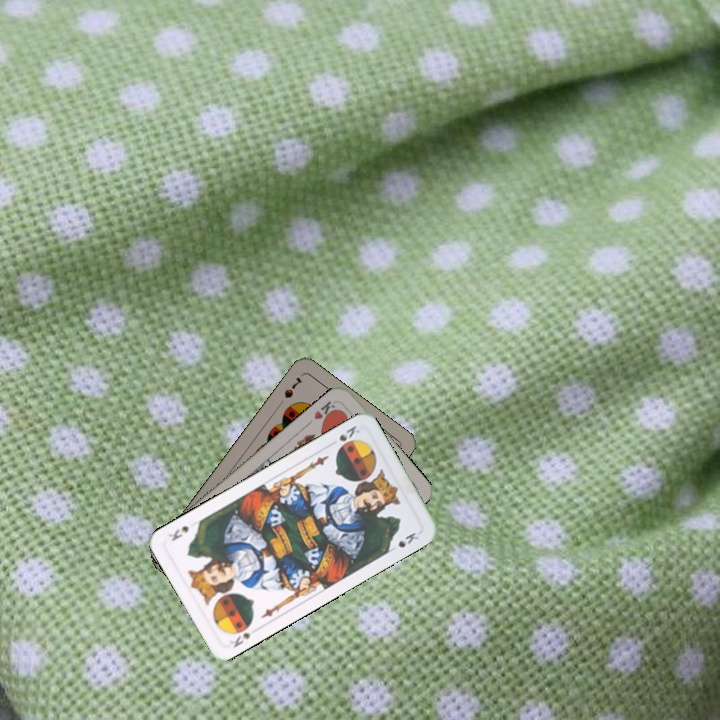HK: (310, 396, 341, 425)
S7: (280, 373, 305, 401)
SK: (335, 421, 362, 444), (226, 629, 253, 650)
